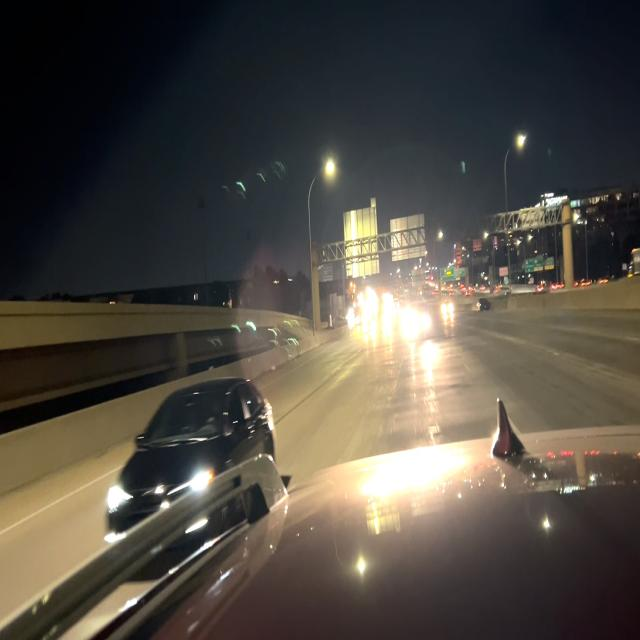back-of-sign: (343, 198, 380, 284), (389, 212, 427, 264), (521, 204, 546, 231)
